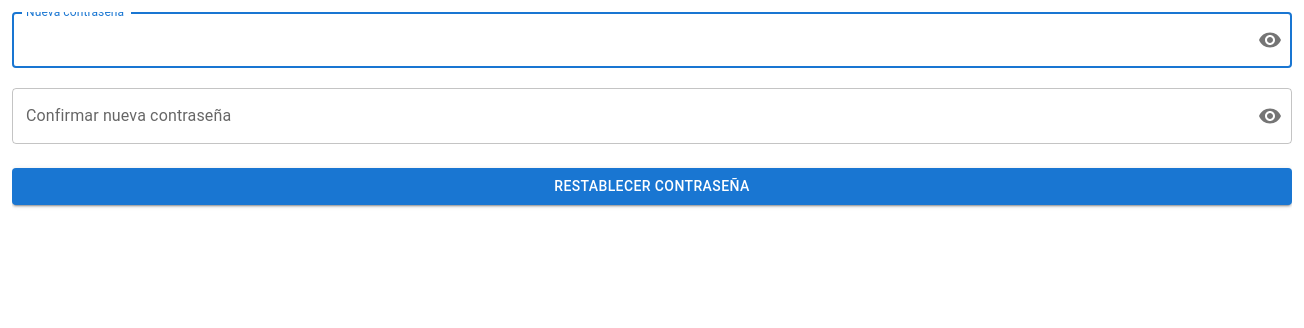
Test case: ResetPasswordForm › error handling - API errors › should show request new link when detail error is shown
The image size is (1304, 328).
Step 1. Type "NewPass123" into the password field labelled "Nueva contraseña" → (627, 40), box top-left (12, 12), bottom-right (1242, 68)
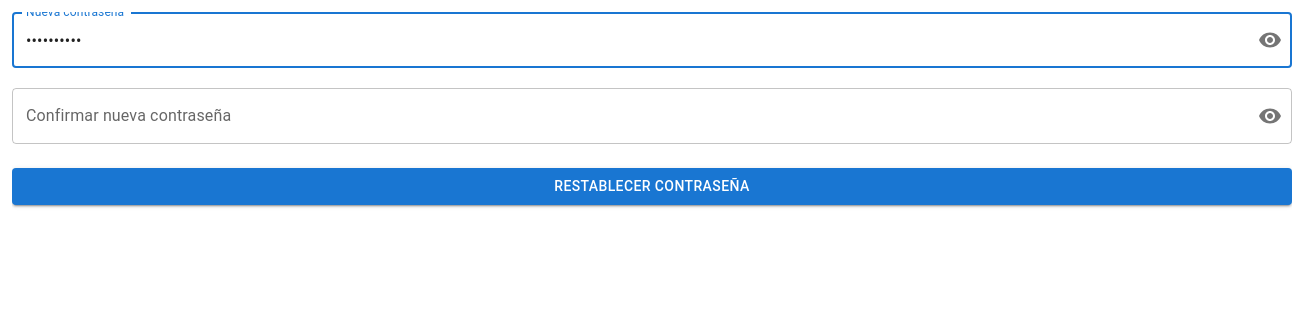
Step 2. Type "NewPass123" into the password field labelled "Confirmar nueva contraseña" → (627, 116), box top-left (12, 88), bottom-right (1242, 144)
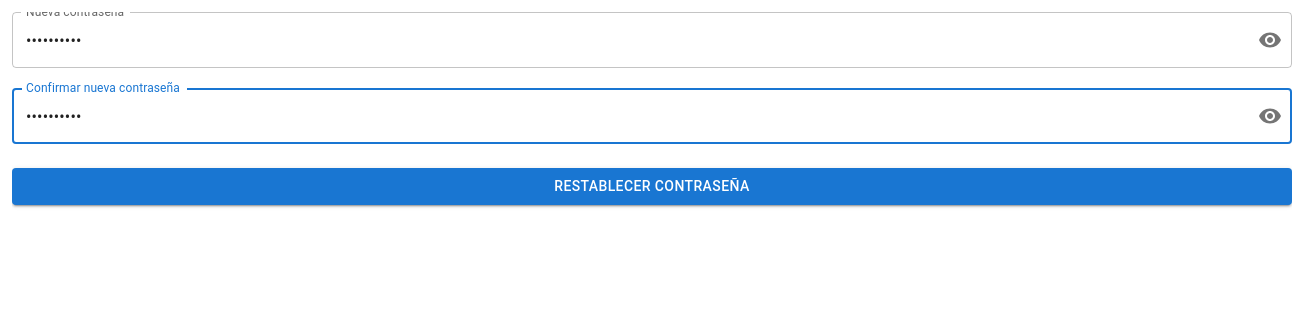
Step 3. Click the button "Restablecer contraseña" → (652, 186), box top-left (12, 168), bottom-right (1292, 204)
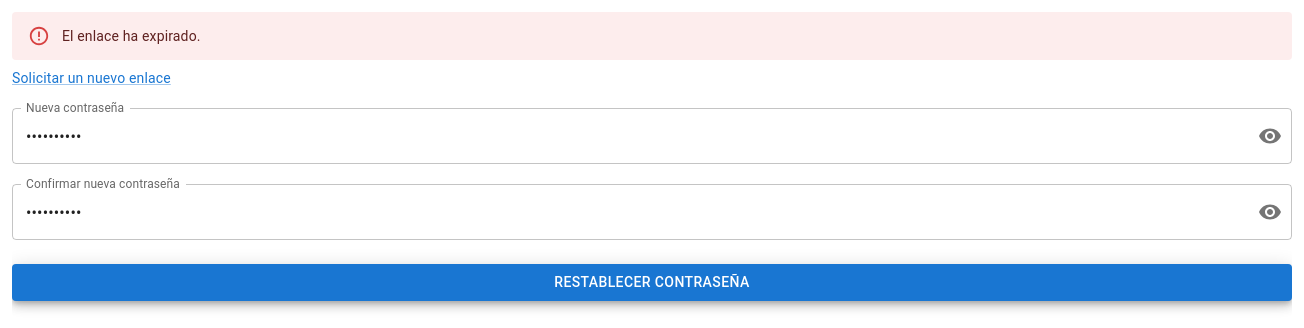
Check: the link "Solicitar un nuevo enlace" is shown, box top-left (12, 70), bottom-right (171, 86)
